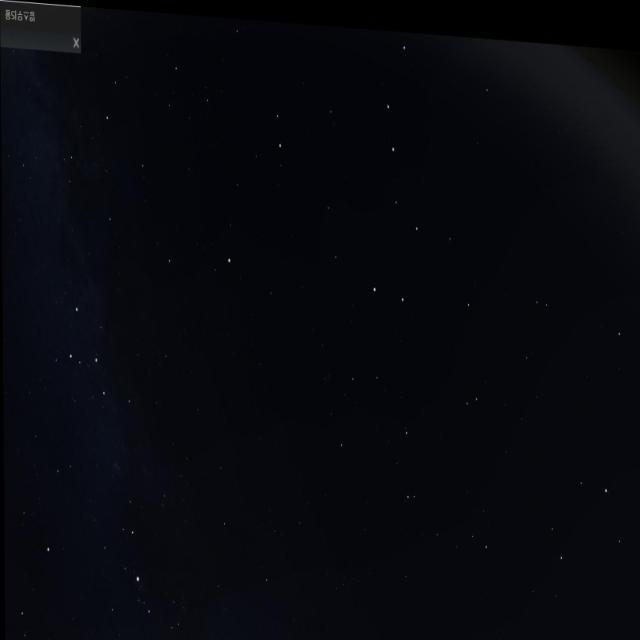ursa_major: (351, 22, 439, 325)
